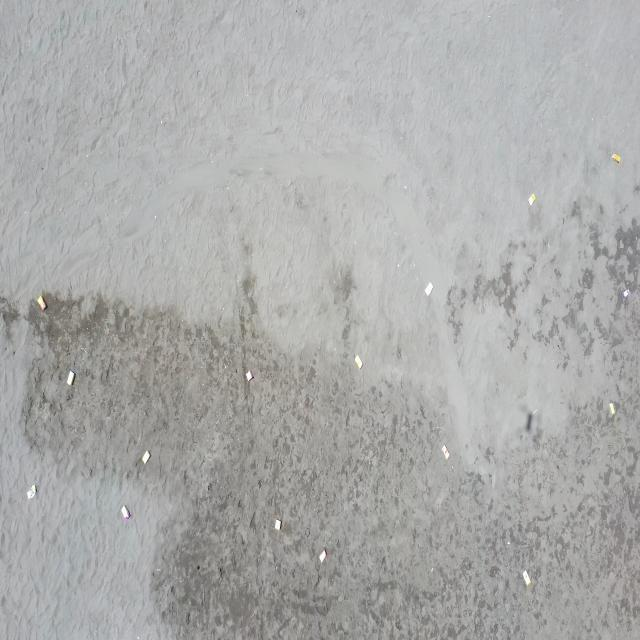retort-pouch: (27, 482, 39, 500), (141, 448, 152, 466), (119, 504, 131, 520), (36, 294, 47, 311), (423, 281, 434, 298), (66, 370, 76, 388), (441, 444, 451, 460), (245, 368, 255, 384), (611, 152, 622, 166), (522, 570, 532, 585), (318, 549, 328, 563), (354, 355, 364, 369), (528, 192, 537, 205), (274, 518, 282, 532), (608, 402, 616, 416), (622, 289, 630, 298)
